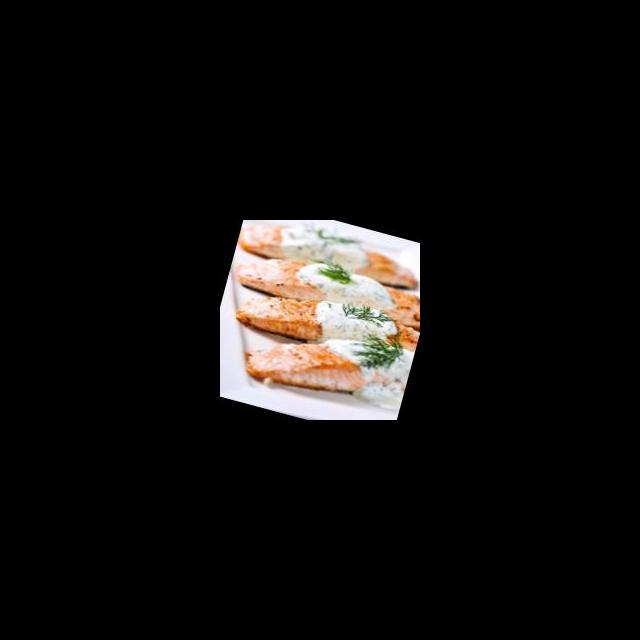ca hoi: (238, 305, 416, 420), (234, 274, 420, 375), (232, 240, 420, 338), (234, 220, 420, 302)
ca hoi sot pho mai kem: (220, 235, 420, 420)
pho mai: (314, 300, 411, 373), (303, 264, 393, 337), (282, 224, 365, 261)
